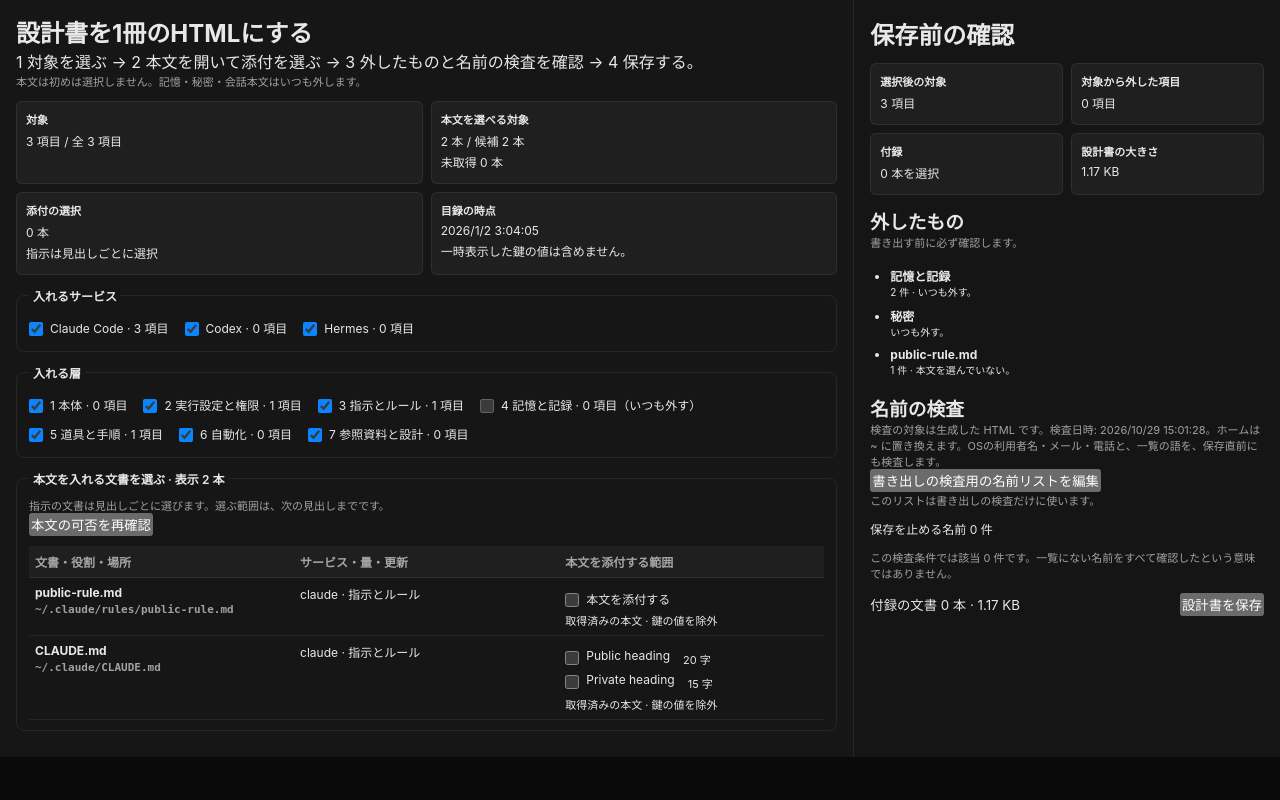
Test: agent design export › saves through a native chosen path and reports success
Click the button "設計書を保存". click: click(1222, 604)
box: [1180,593,1264,616]
Wait 250 ms
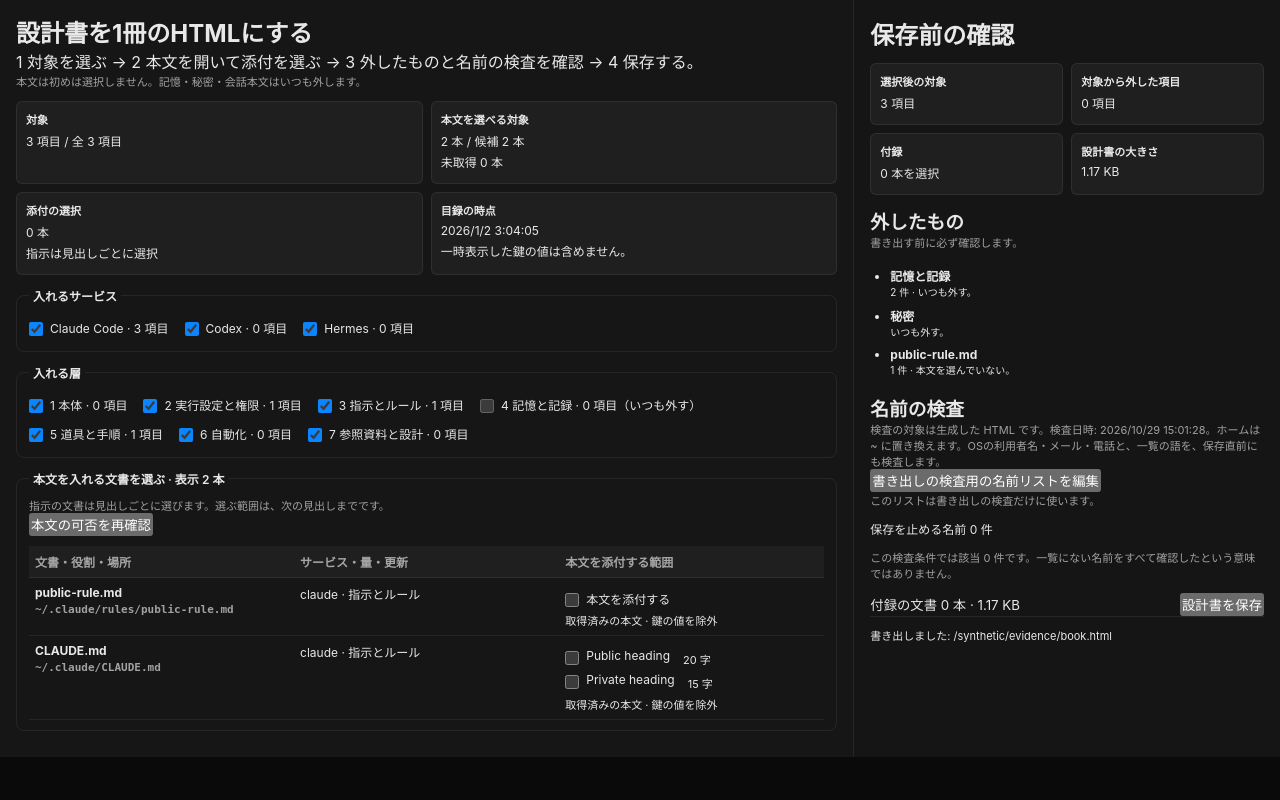
Result: the text "書き出しました" is shown at [870,629,1112,643]
